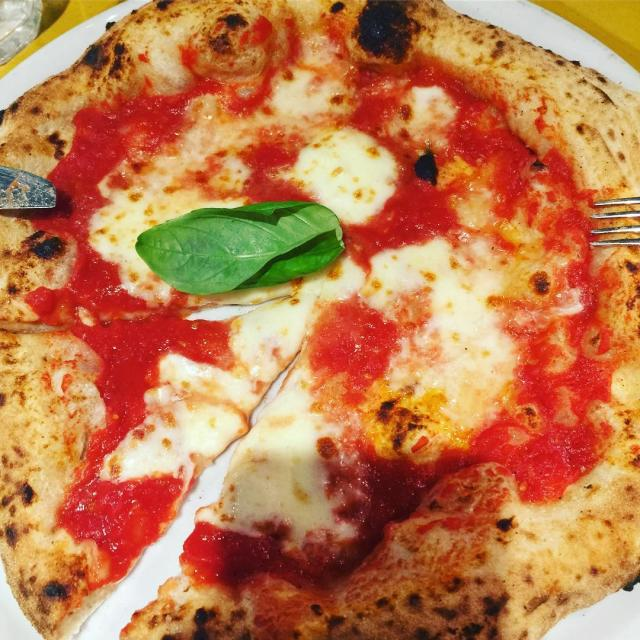basil: (130, 198, 356, 296)
pizza: (0, 0, 640, 640)
